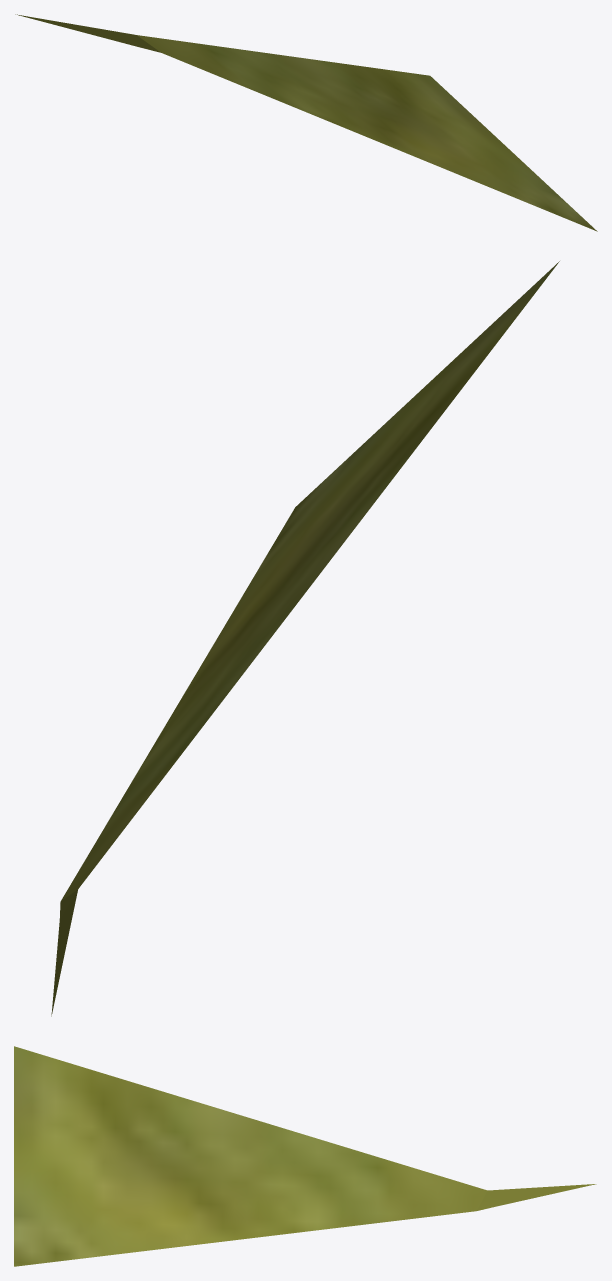
3 renders of one model, top to bottom at view 1: azimuth 30°, elevation 25°; view 2: azimuth 150°, elevation 25°; view 3: azimuth 270°, elevation 25°, orthographic. The views are drawn at different scales.
Bounding box in the file's own units: 0.7349 × 0.6437 × 2.19.
1 material, 1 textured.
